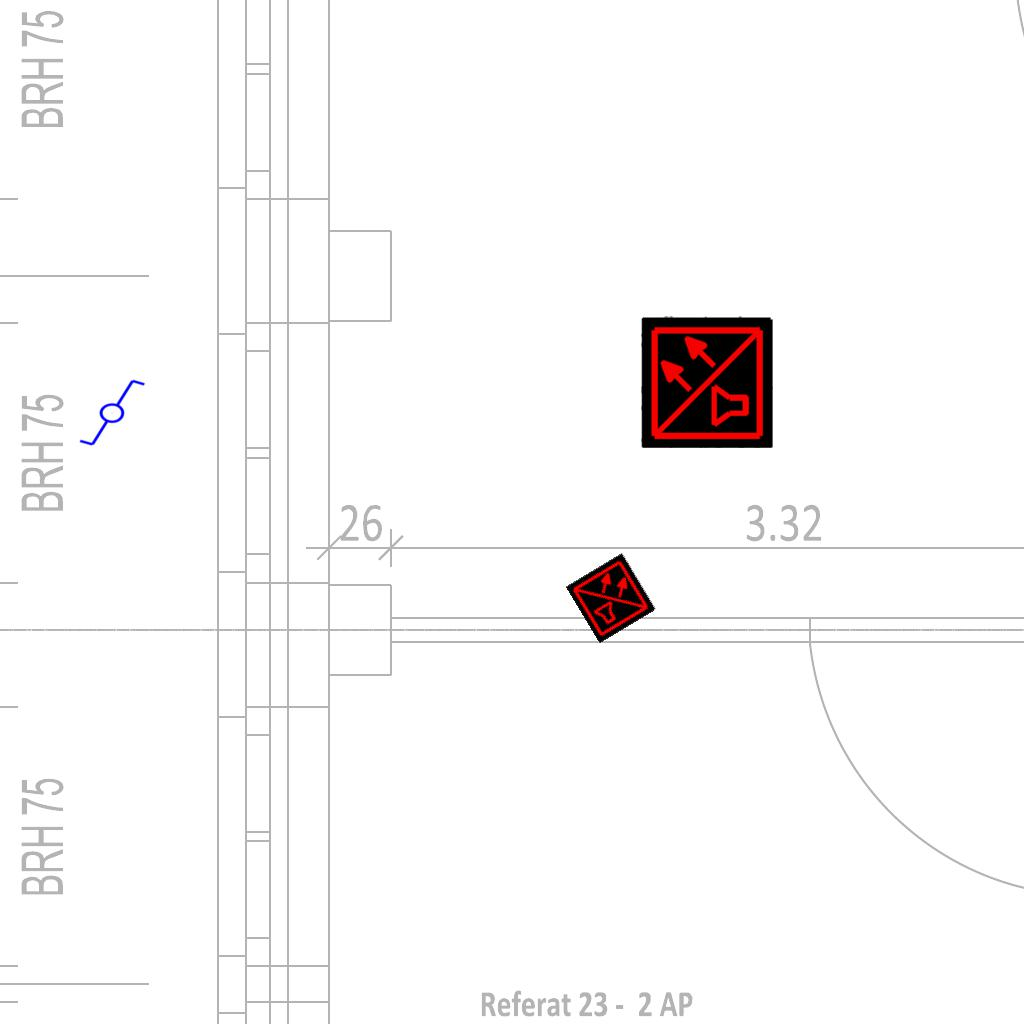OKW_Multisensormelder_(Kombination_optischer_Rauch-Kahlenmonoxid_Waerme-Melder): (641, 316, 773, 448), (565, 552, 657, 644)
Wechselschalter: (69, 376, 147, 448)
